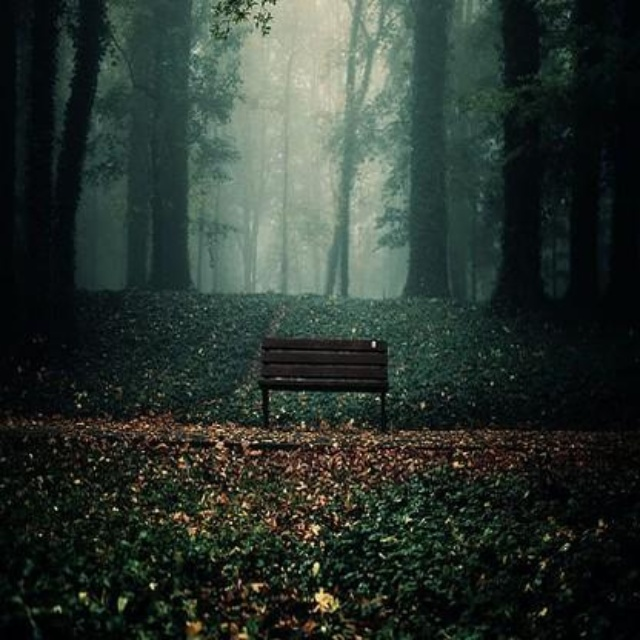obstacle: (249, 329, 397, 432)
